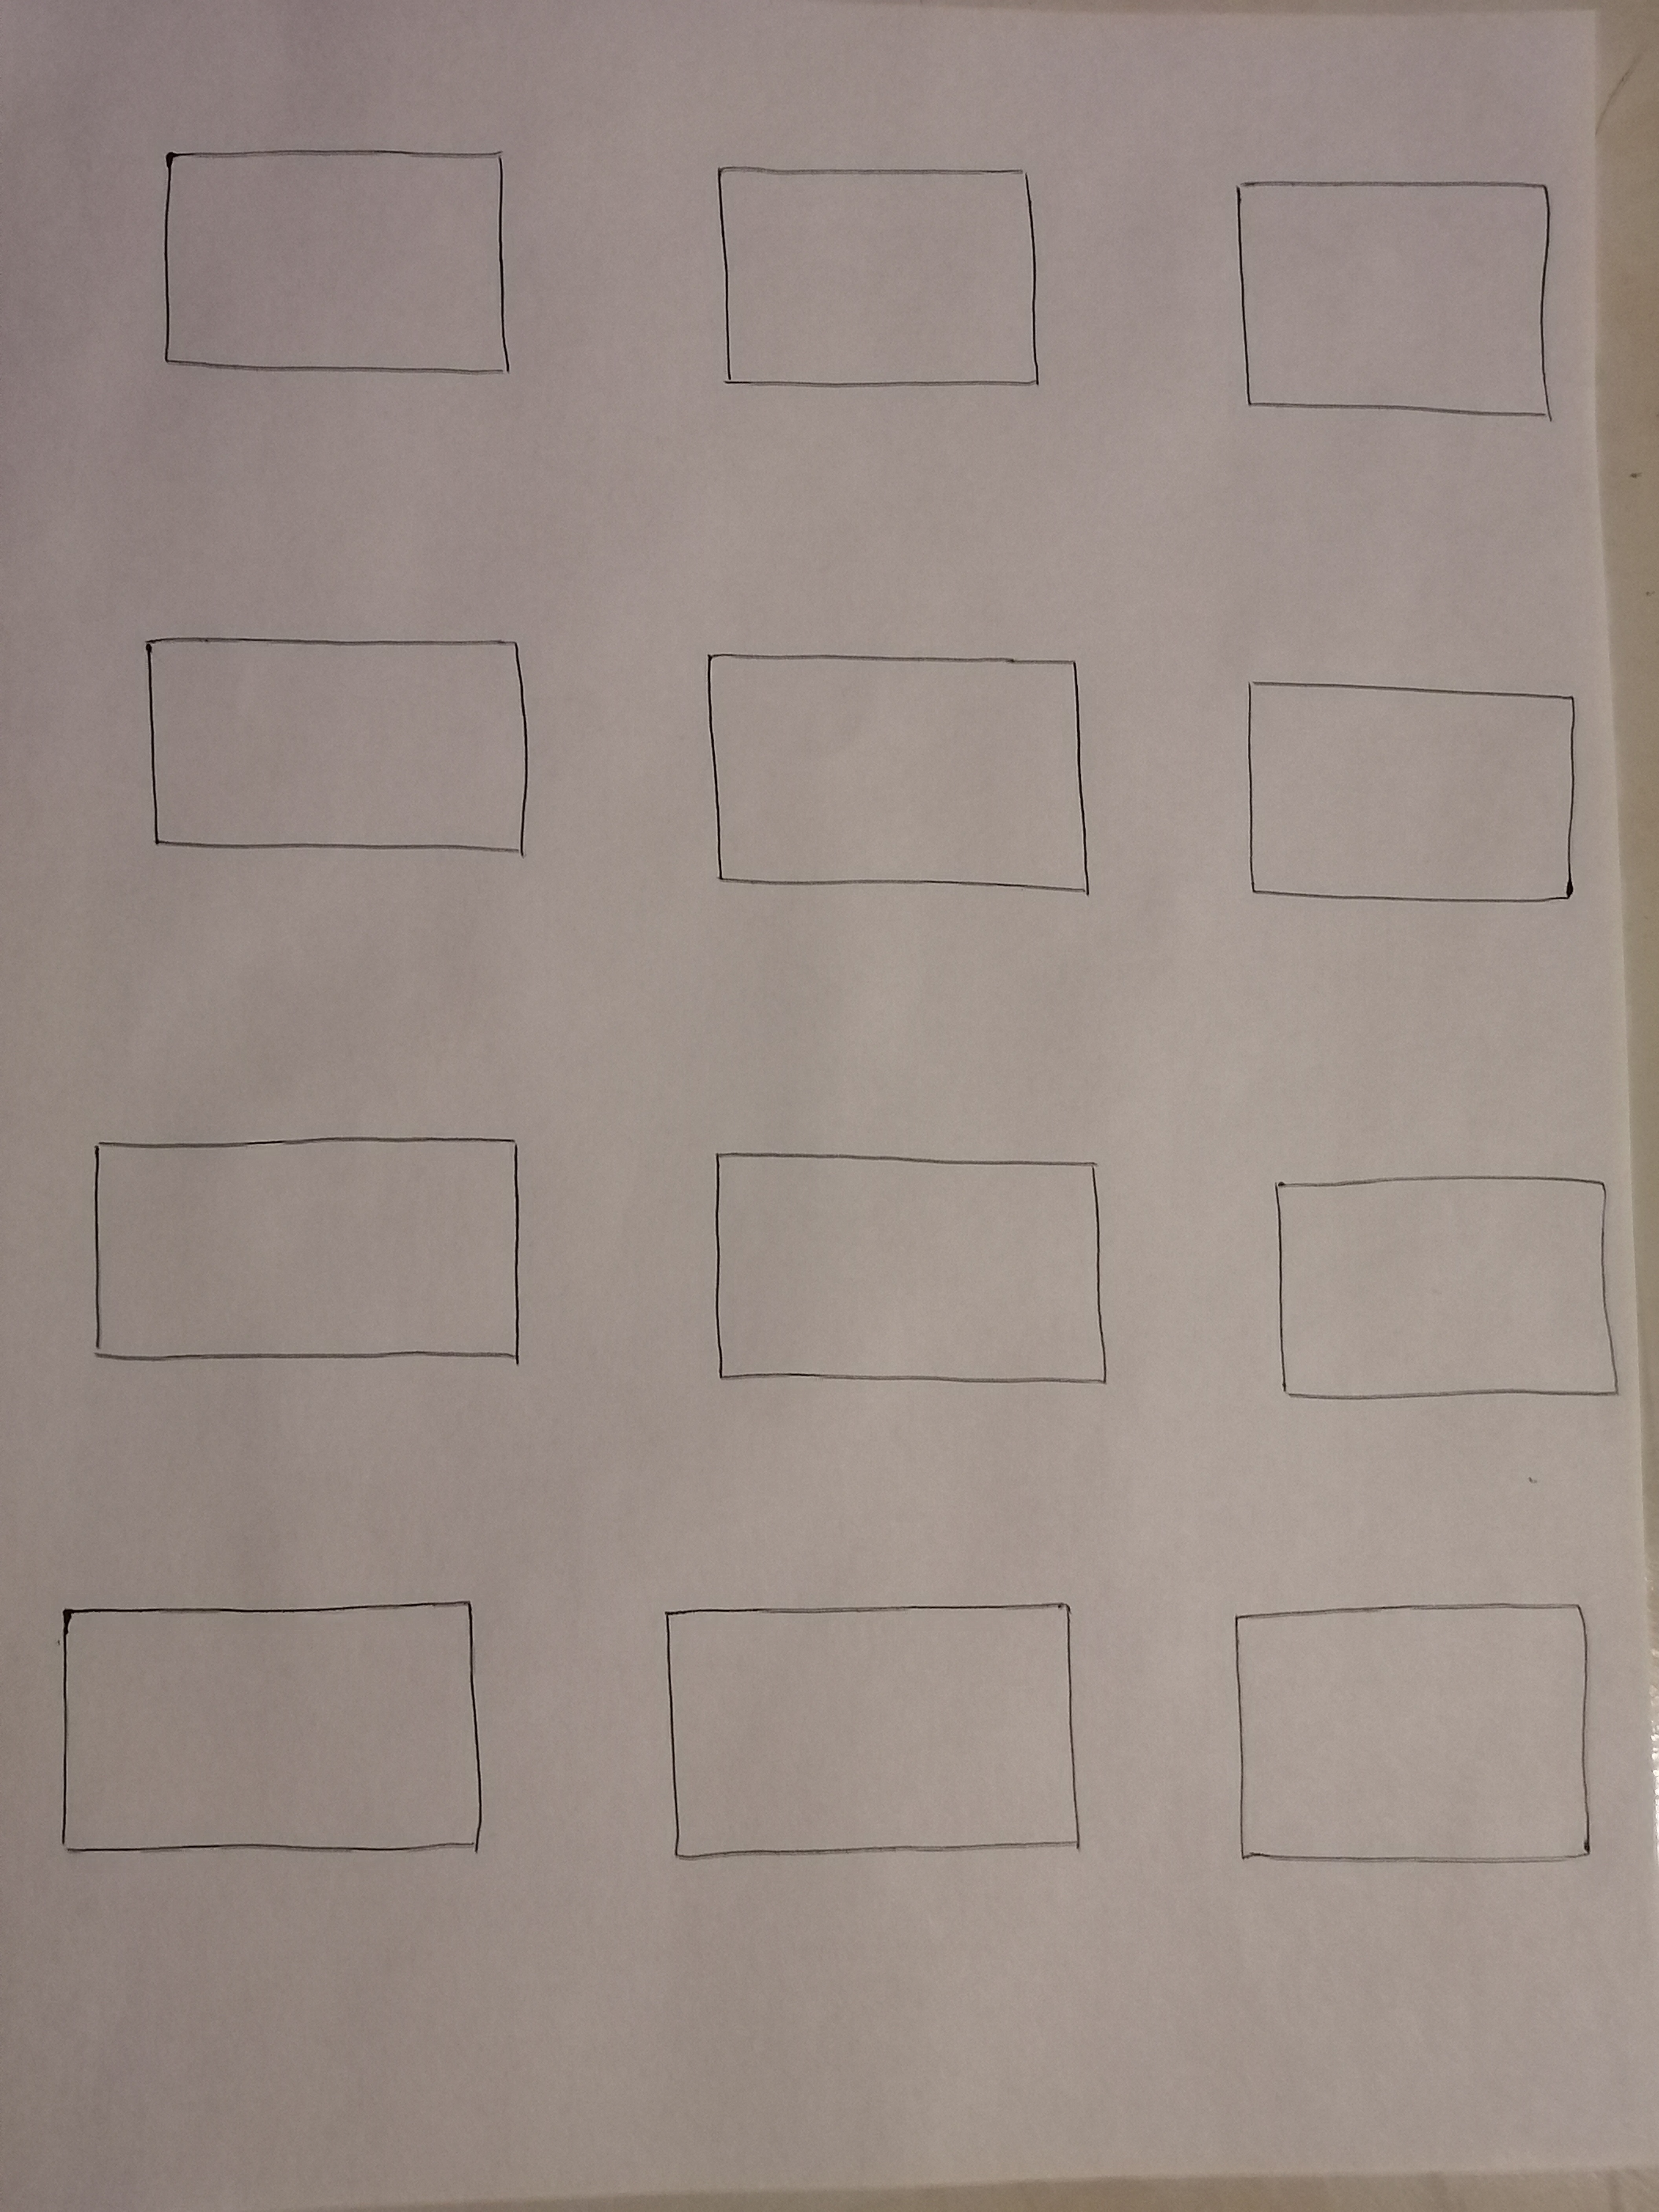process: (657, 1103, 1159, 1426), (68, 1099, 545, 1413), (627, 1581, 1114, 1885), (674, 624, 1138, 937), (1209, 1566, 1635, 1902), (45, 1581, 502, 1885), (681, 120, 1084, 449), (124, 103, 545, 416), (110, 613, 570, 899), (1192, 131, 1584, 460), (1209, 637, 1607, 956), (1227, 1134, 1628, 1420)
